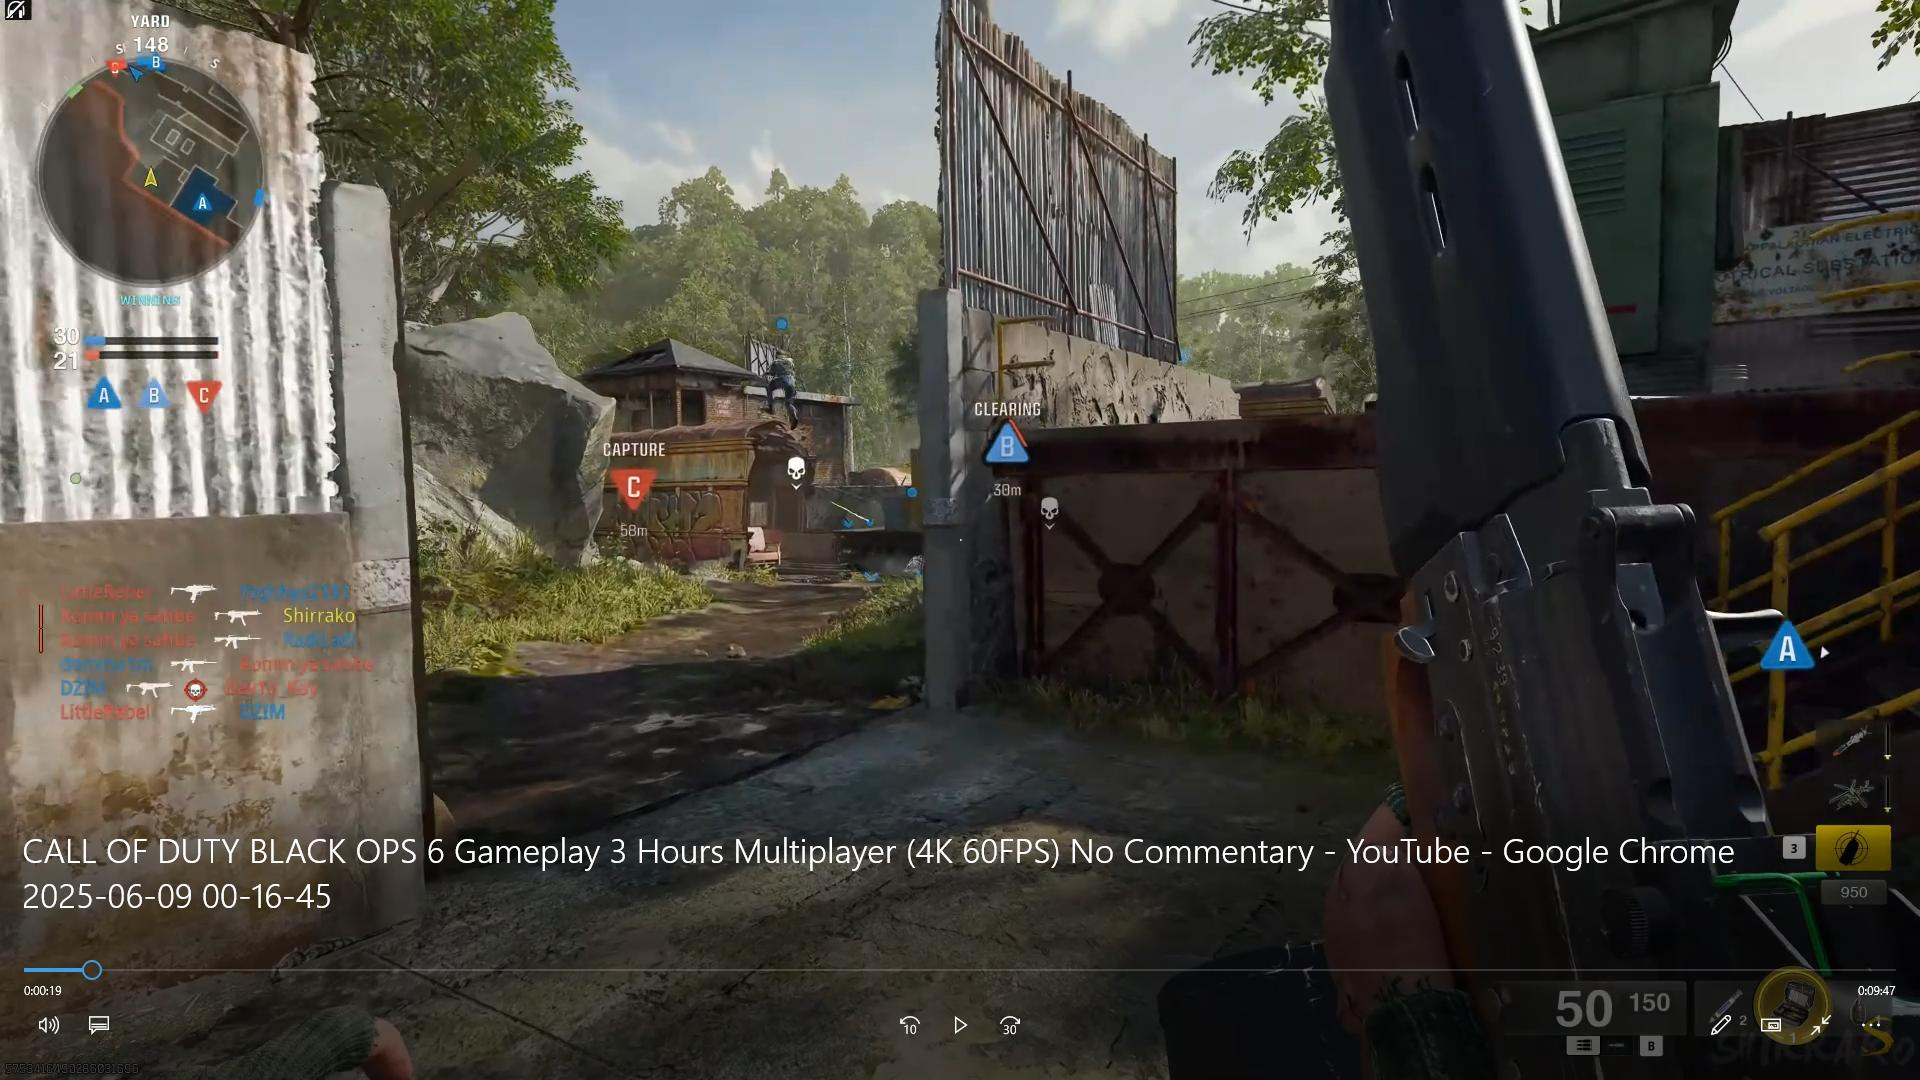Enemy: (757, 342, 800, 429)
